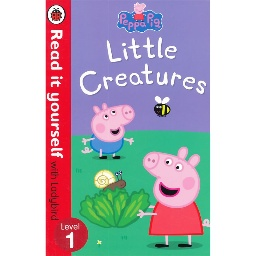Peppa: (136, 146, 214, 251)
